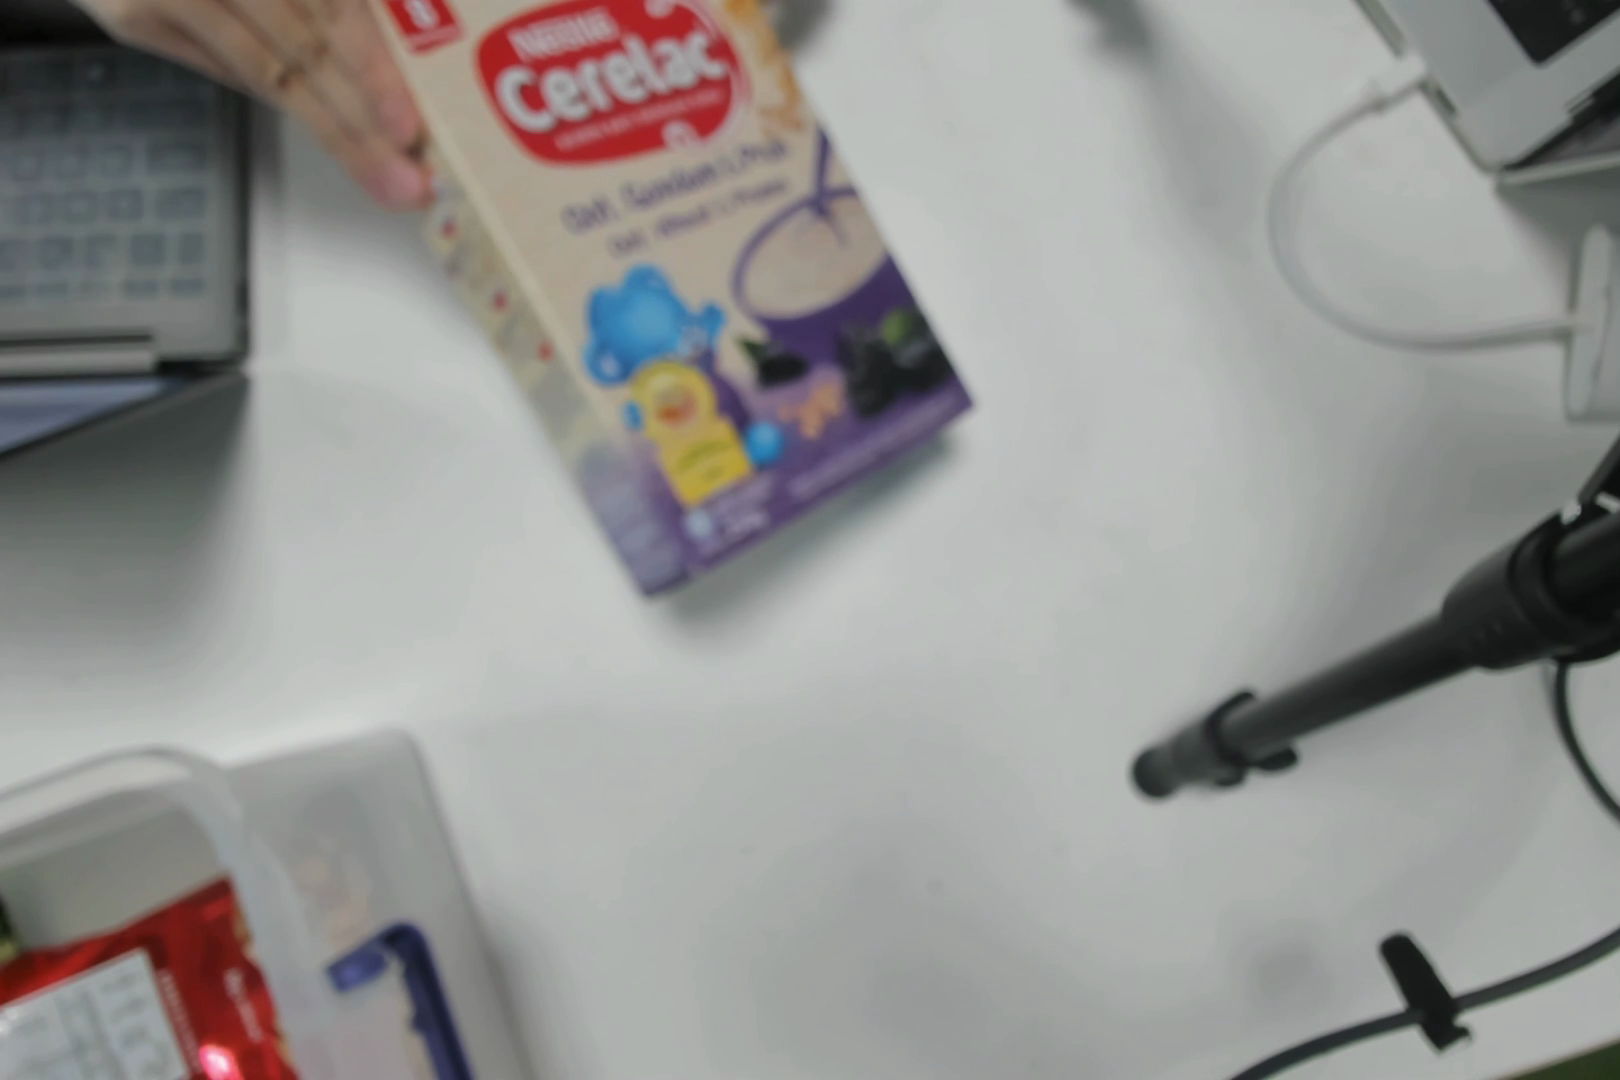d: (407, 2, 955, 605)
